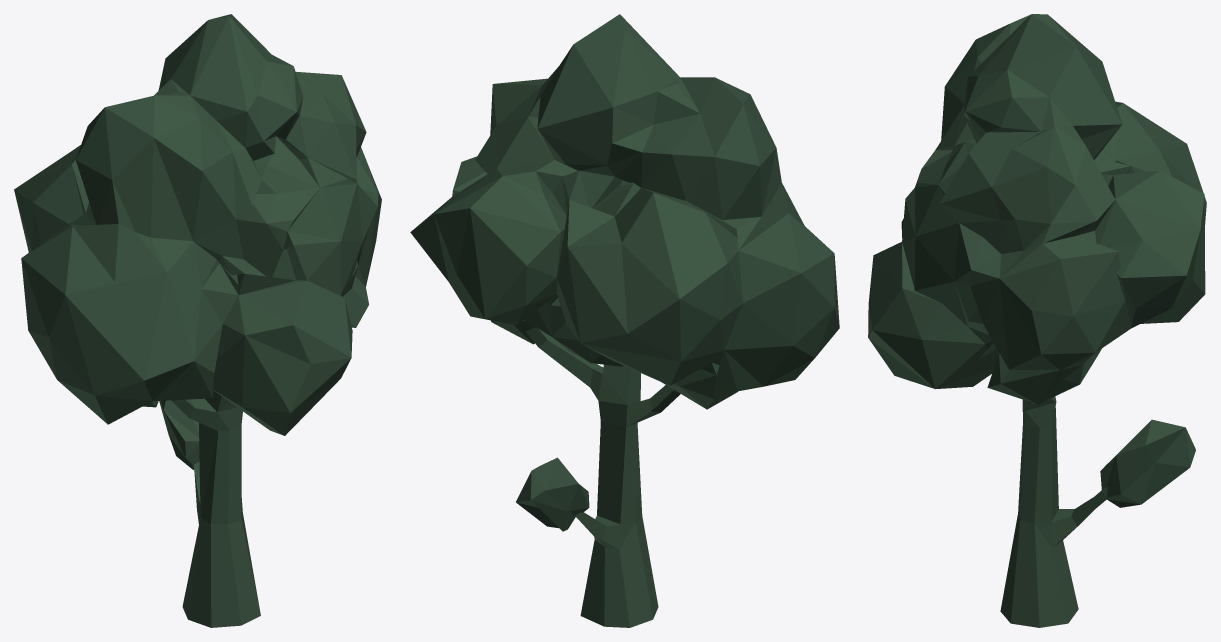
Rendered from tree_4.glb.
3 views of the same model, side by side, from view 1: azimuth 30°, elevation 25°; view 2: azimuth 150°, elevation 25°; view 3: azimuth 270°, elevation 25° (orthographic).
Parts seen in each view (by area): view 1: _4_tree; view 2: _4_tree; view 3: _4_tree.
Boxes of the visible parts, x1,y1,x2,y2 form: _4_tree: [14, 14, 381, 627]; _4_tree: [410, 14, 839, 627]; _4_tree: [868, 14, 1206, 627].
Size of the model in its own units: 1.1 by 1.8 by 0.9209.
